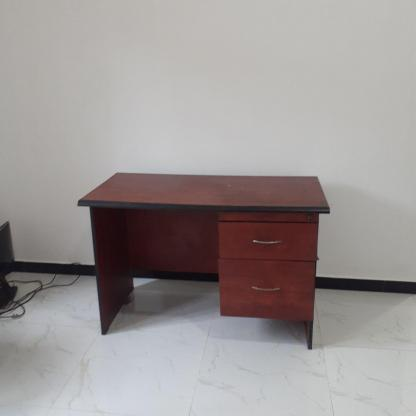Table: (66, 162, 349, 365)
